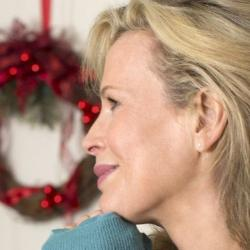face: (70, 1, 249, 230)
